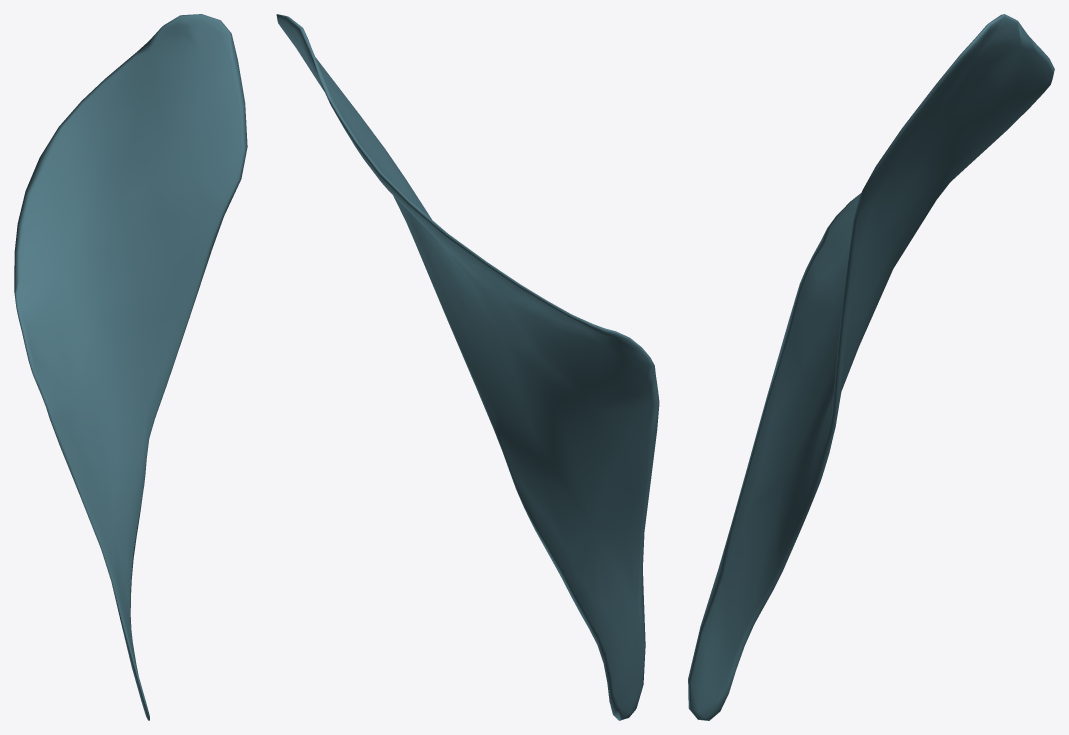
File: Popliteus_above_oblique_line_of_tibia.l_Generated_Mesh_From_X3D.glb
The picture shows the model from 3 angles, left to right: view 1: azimuth 30°, elevation 25°; view 2: azimuth 150°, elevation 25°; view 3: azimuth 270°, elevation 25°; orthographic projection. The views are drawn at different scales.
Visible parts, largest first — view 1: Popliteus_above_oblique_line_of_tibia.l_Generated_Mesh_From_; view 2: Popliteus_above_oblique_line_of_tibia.l_Generated_Mesh_From_; view 3: Popliteus_above_oblique_line_of_tibia.l_Generated_Mesh_From_.
Boxes of the visible parts, left/top/right/bottom form: Popliteus_above_oblique_line_of_tibia.l_Generated_Mesh_From_: left=14, top=14, right=247, bottom=720; Popliteus_above_oblique_line_of_tibia.l_Generated_Mesh_From_: left=276, top=14, right=659, bottom=720; Popliteus_above_oblique_line_of_tibia.l_Generated_Mesh_From_: left=688, top=14, right=1054, bottom=720.
Bounding box in the file's own units: 0.0324 × 0.0738 × 0.0305.
